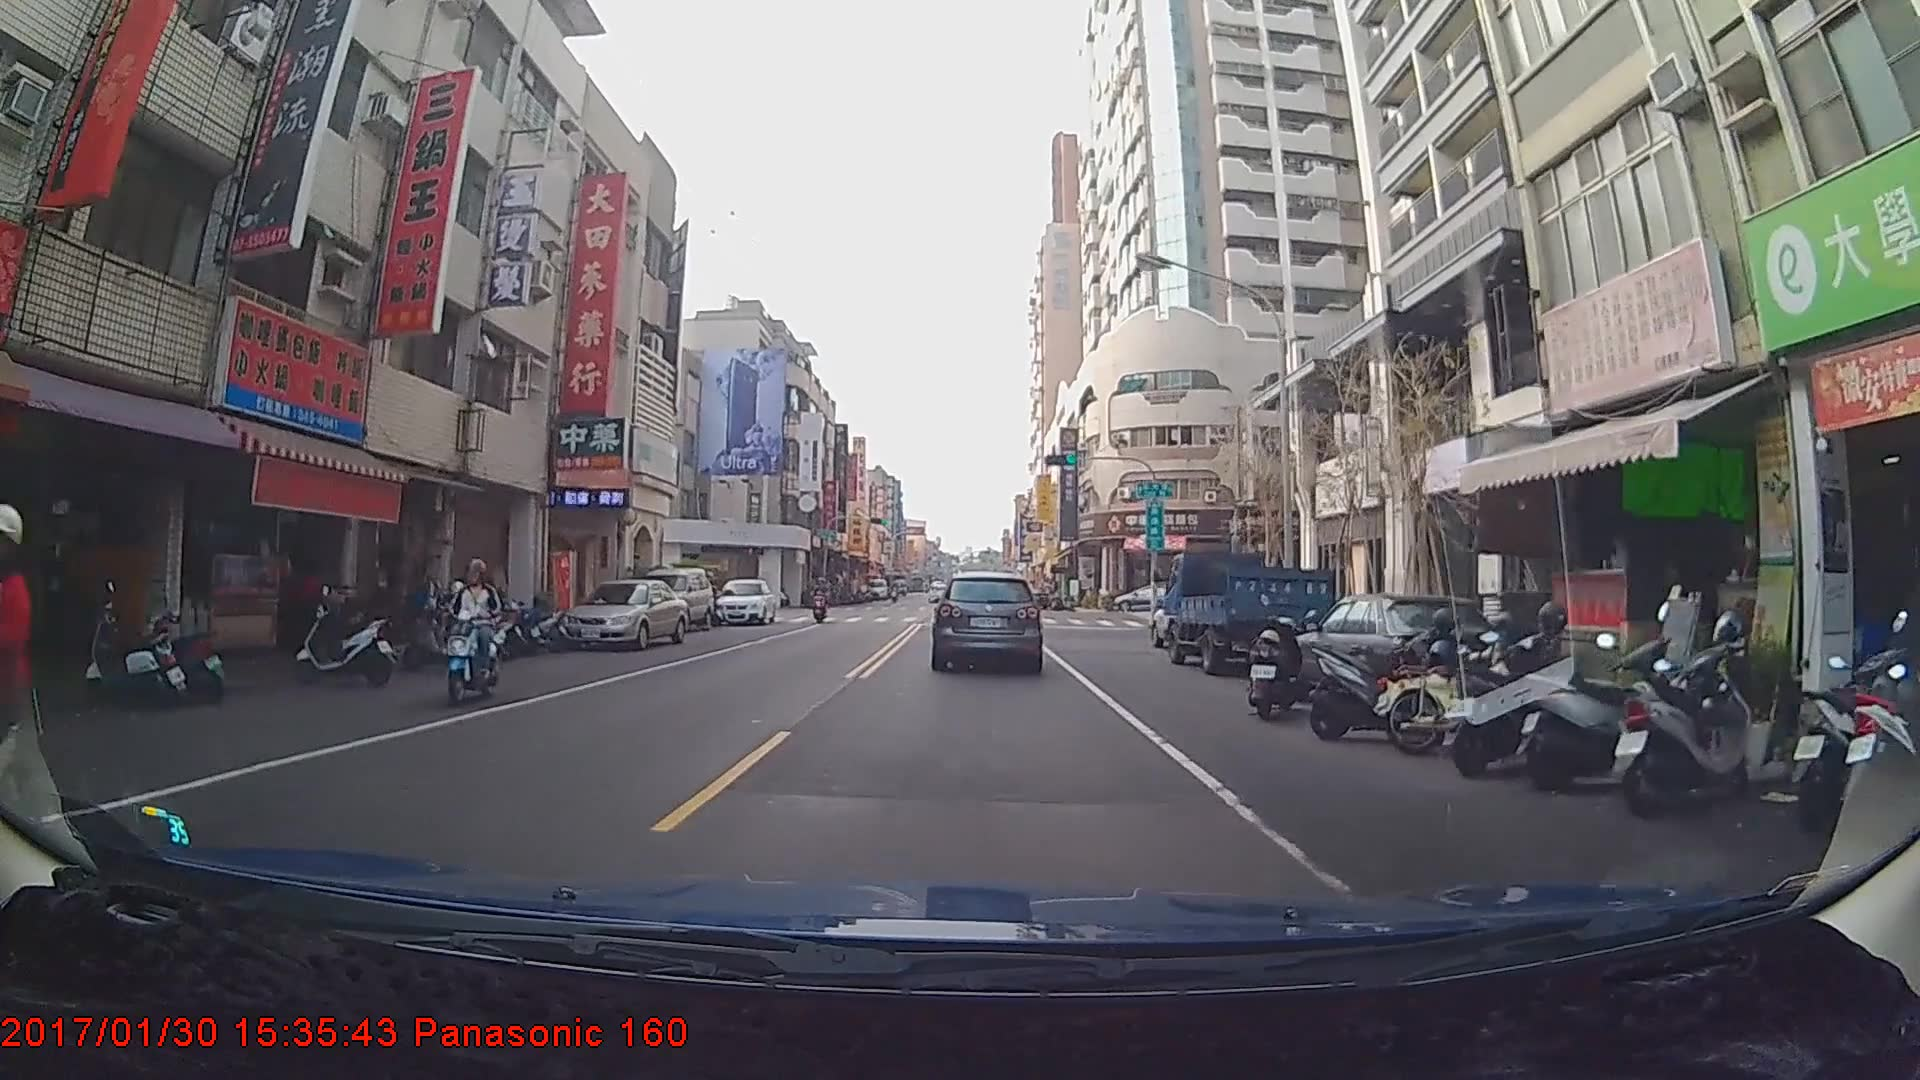rider: (438, 558, 505, 703), (809, 579, 831, 626)
vehicle: (1161, 550, 1335, 676), (934, 568, 1042, 672), (556, 577, 688, 650), (626, 564, 715, 634), (714, 575, 777, 625), (1112, 582, 1182, 612)
